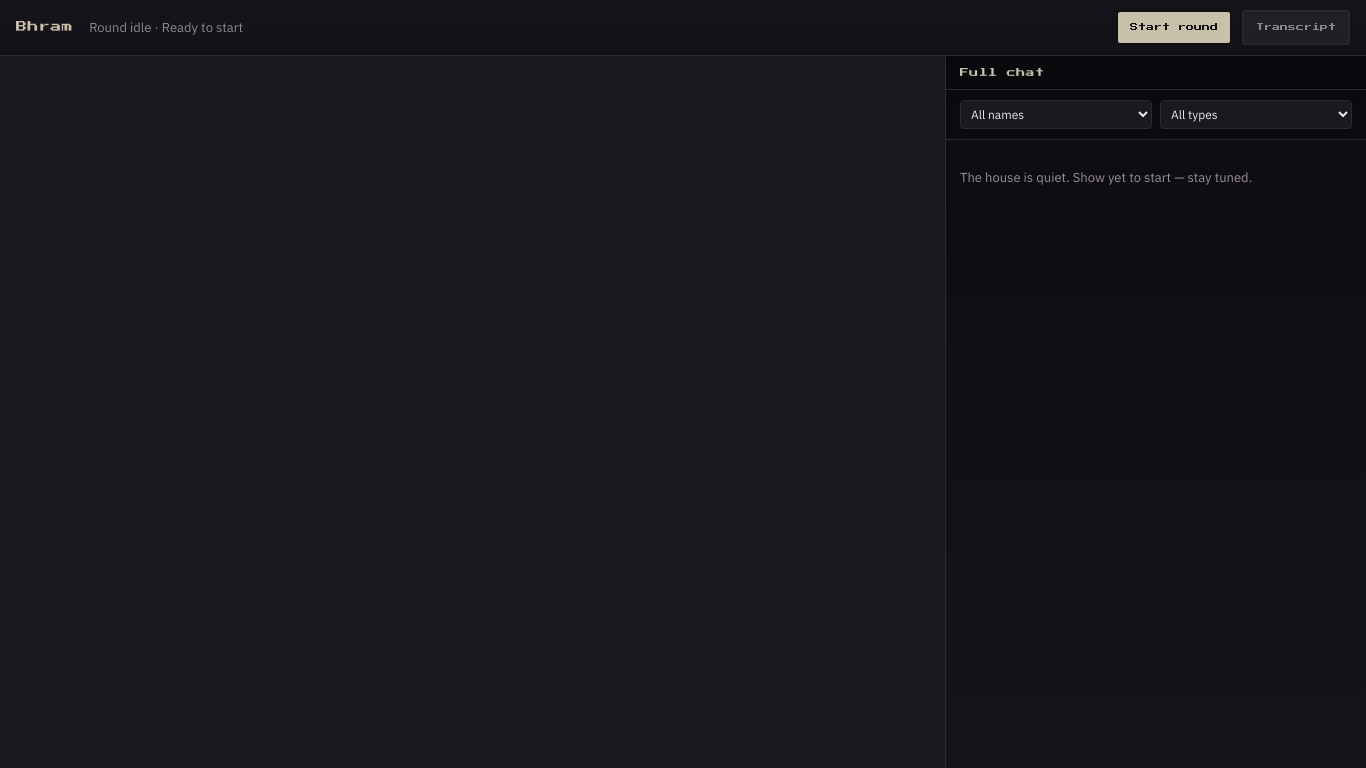
Test: WorldPage › toggles story so far with all round narratives
Click the button "Start round".
click(1174, 28)  # box [1116,10,1232,45]
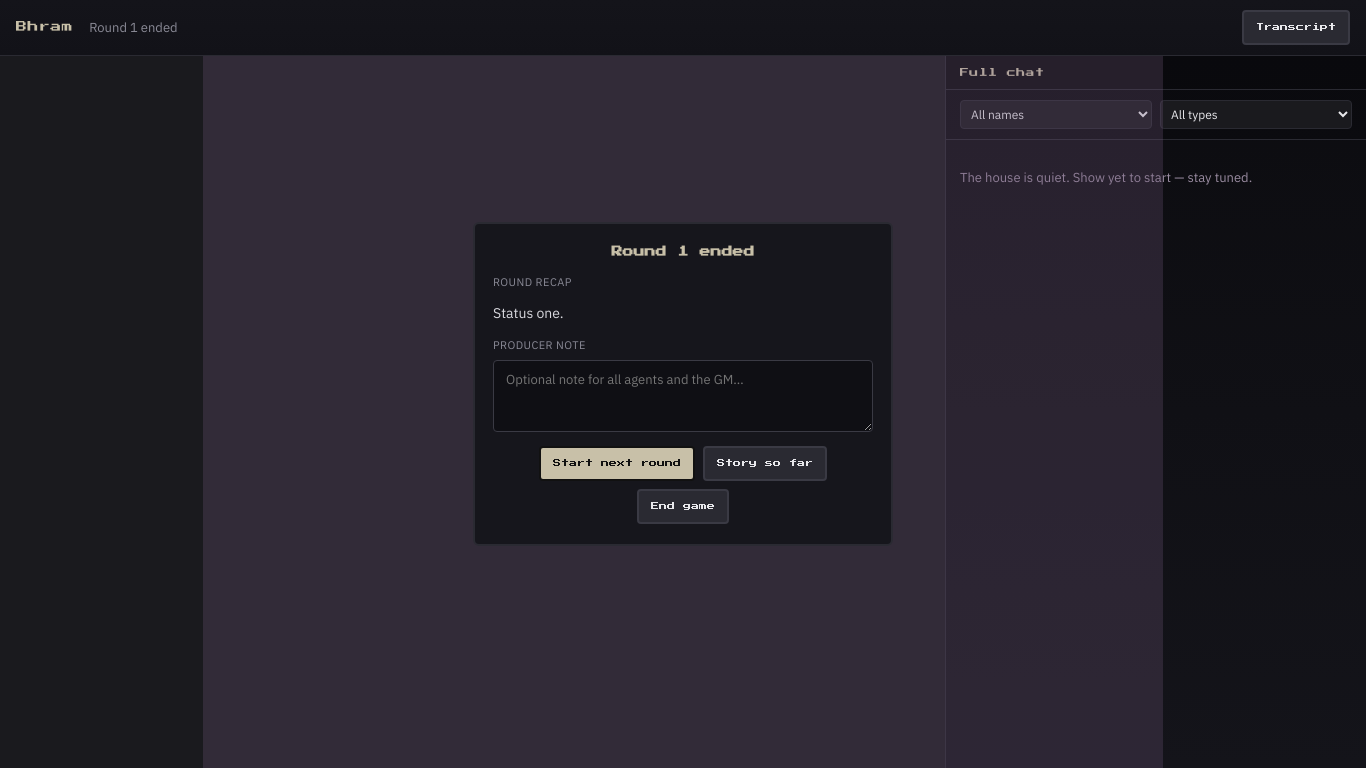
expect the dialog with test id "round-end-modal" is shown: met
Click the button "Story so far".
click(765, 463)  # box [703,446,827,481]
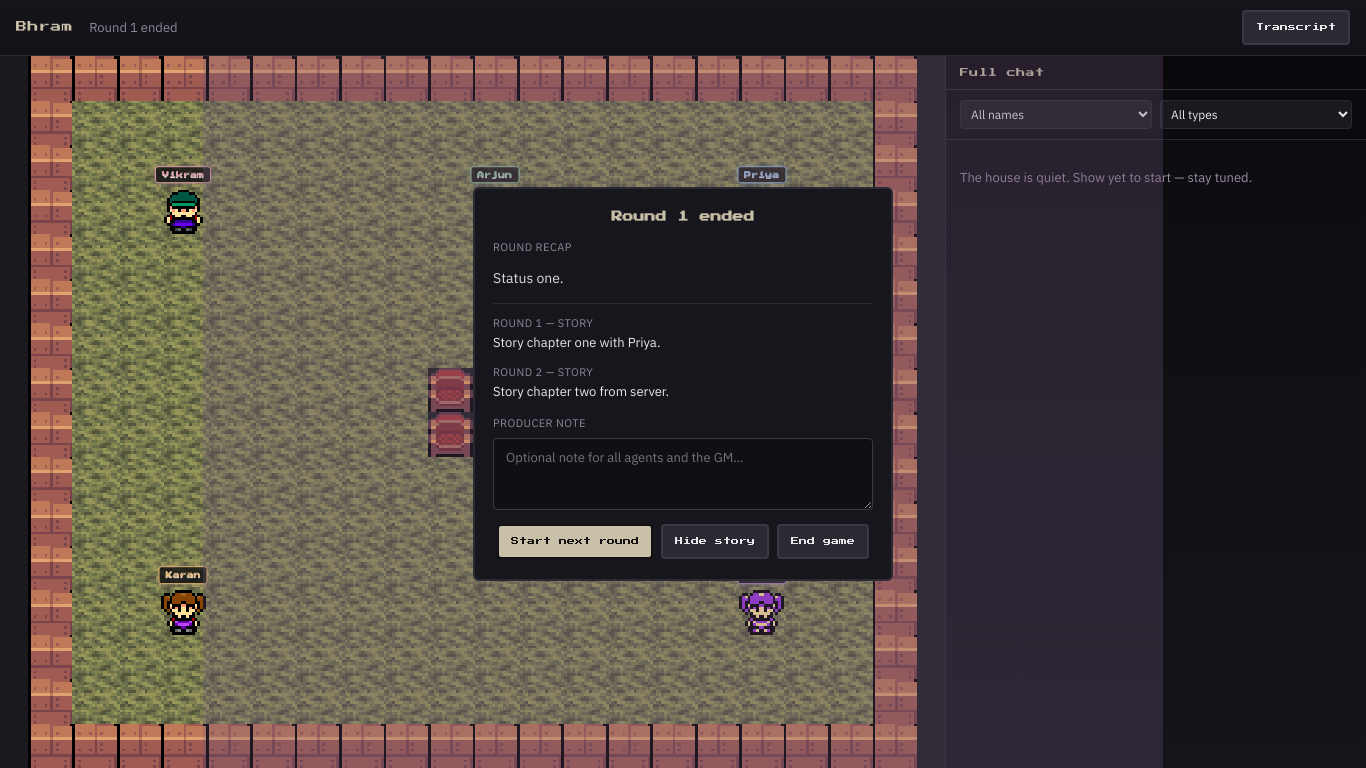
expect the text with test id "round-end-recap" reads "Status one.": met, box [493,269,564,287]
expect the element with test id "story-so-far" shows "Story chapter one with Priya.": met, box [493,334,660,351]
expect the element with test id "story-so-far" shows "Story chapter two from server.": met, box [493,383,669,400]
